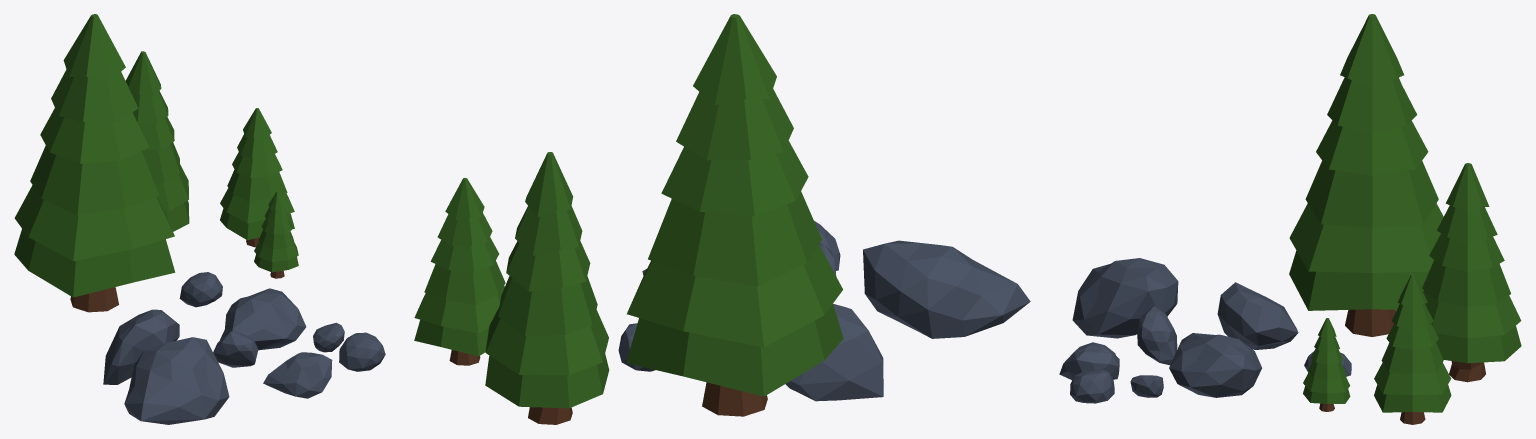
The model's file is Set.fbx.
The picture shows the model from 3 angles, left to right: view 1: azimuth 30°, elevation 25°; view 2: azimuth 150°, elevation 25°; view 3: azimuth 270°, elevation 25°; orthographic projection. The views are drawn at different scales.
Visible parts, largest first — view 1: Pine1, Rock6, Pine2, Pine4, Rock8, Rock4, Pine3, Rock7, Rock2, Rock4.001, Rock3, Rock1; view 2: Pine1, Pine4, Rock6, Pine2, Rock4; view 3: Pine1, Pine4, Pine2, Rock6, Rock8, Rock4, Pine3, Rock4.001, Rock7, Rock2, Rock1.
Part boxes in pixels (x1,y1,x2,y2): Pine1: (14,14,175,312); Rock6: (124,337,229,424); Pine2: (220,108,294,247); Pine4: (125,51,189,231); Rock8: (220,288,306,350); Rock4: (103,309,179,384); Pine3: (254,191,298,278); Rock7: (263,352,332,398); Rock2: (339,332,385,371); Rock4.001: (213,330,258,367); Rock3: (179,272,222,307); Rock1: (313,322,344,352); Pine1: (626,14,843,416); Pine4: (485,152,609,424); Rock6: (863,240,1030,338); Pine2: (414,178,505,365); Rock4: (785,304,883,401); Pine1: (1289,14,1443,336); Pine4: (1422,163,1521,382); Pine2: (1374,274,1451,424); Rock6: (1072,258,1178,338); Rock8: (1169,333,1261,397); Rock4: (1217,282,1298,349); Pine3: (1303,318,1350,411); Rock4.001: (1137,306,1177,365); Rock7: (1059,342,1119,379); Rock2: (1070,370,1114,403); Rock1: (1130,375,1163,397).
Bounding box in the file's own units: 2112 × 2126 × 2613.
